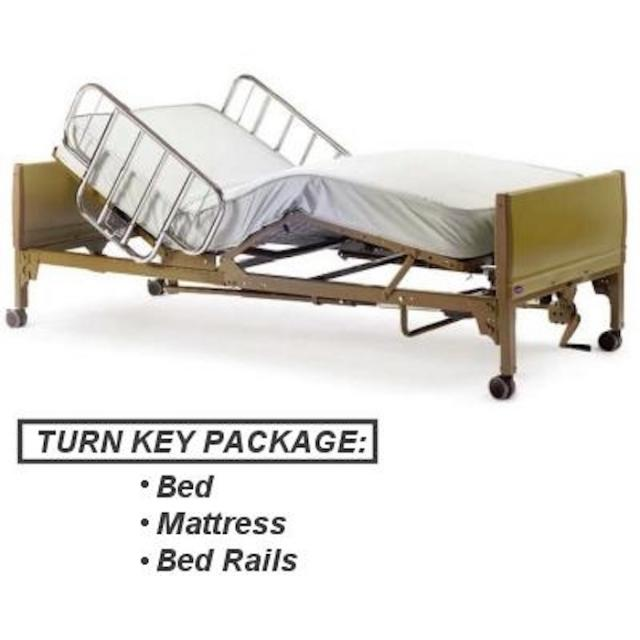patient_bed: (86, 79, 607, 324)
